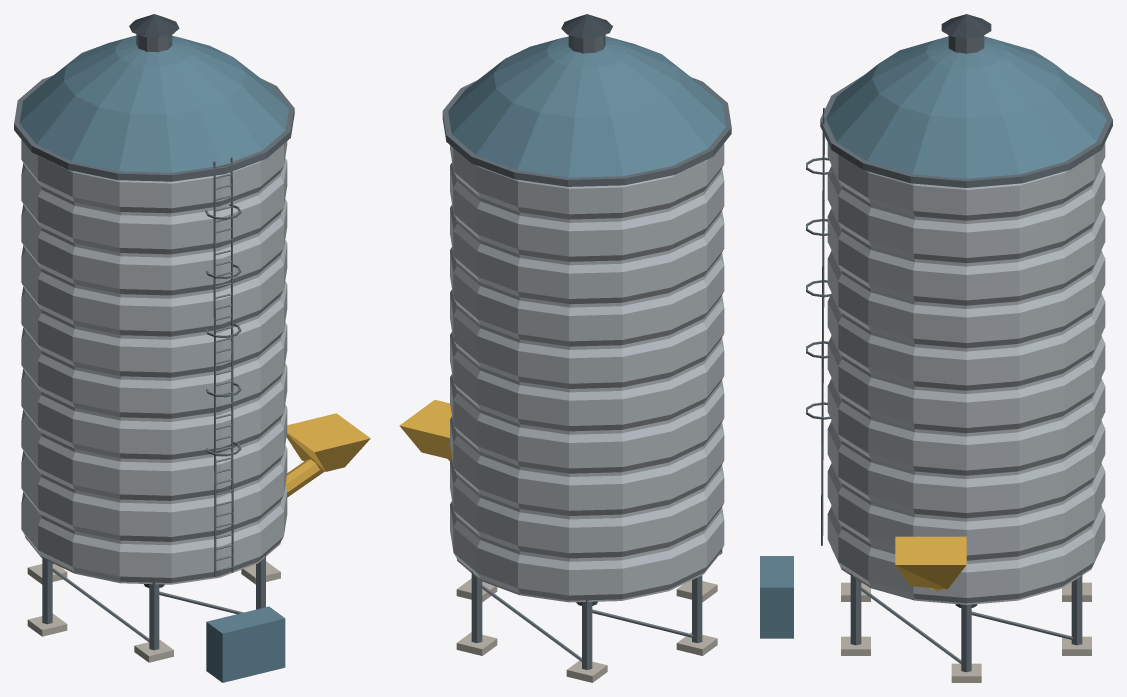
The model's file is RURAL_04.obj.
The picture shows the model from 3 angles, left to right: view 1: azimuth 30°, elevation 25°; view 2: azimuth 150°, elevation 25°; view 3: azimuth 270°, elevation 25°; orthographic projection. The views are drawn at different scales.
Parts seen in each view (by area): view 1: silo_wall, roof, service_box, roof_rim, ladder, auger_hopper, leg_pads, legs, roof_vent, leg_braces, auger, ladder_cage; view 2: silo_wall, roof, roof_rim, leg_pads, legs, auger_hopper, roof_vent, leg_braces; view 3: silo_wall, roof, roof_rim, auger_hopper, service_box, legs, leg_pads, roof_vent, ladder, leg_braces, ladder_cage.
Part boxes in pixels (x1,y1,x2,y2): silo_wall: (21, 140, 287, 584); roof: (19, 35, 288, 172); service_box: (206, 606, 285, 682); roof_rim: (14, 75, 294, 181); ladder: (213, 157, 233, 576); auger_hopper: (286, 413, 370, 471); leg_pads: (27, 561, 280, 662); legs: (42, 555, 265, 650); roof_vent: (129, 14, 179, 52); leg_braces: (51, 563, 243, 642); auger: (285, 459, 324, 497); ladder_cage: (205, 204, 241, 456); silo_wall: (450, 143, 724, 602); roof: (448, 36, 725, 177); roof_rim: (442, 77, 731, 186); leg_pads: (456, 578, 717, 682); legs: (471, 571, 702, 669); auger_hopper: (399, 400, 451, 459); roof_vent: (561, 14, 612, 53); leg_braces: (480, 585, 693, 661); silo_wall: (827, 142, 1105, 604); roof: (826, 36, 1106, 178); roof_rim: (820, 76, 1112, 187); auger_hopper: (895, 536, 966, 589); service_box: (760, 556, 793, 638); legs: (850, 573, 1082, 672); leg_pads: (841, 582, 1091, 682); roof_vent: (941, 14, 991, 53); ladder: (821, 108, 824, 545); leg_braces: (859, 582, 1073, 663); ladder_cage: (806, 157, 834, 419).
Bounding box in the file's own units: 9.7 × 17.9 × 9.4.
